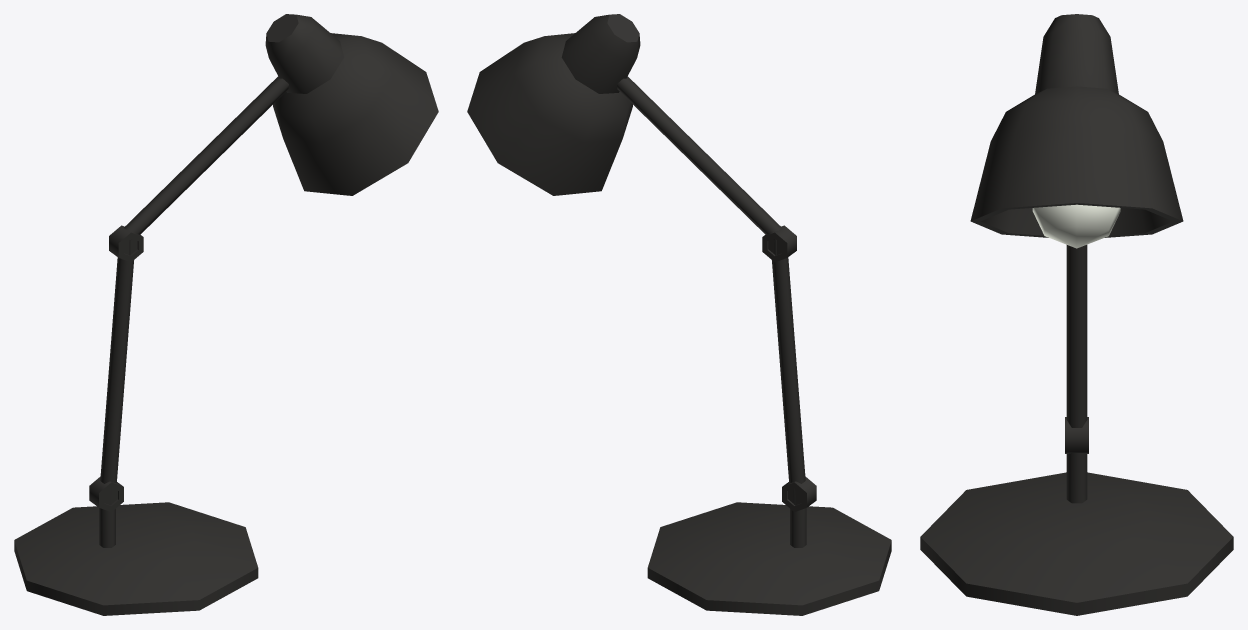
The model's file is 08_prop_desk lamp.FBX.
3 renders of one model, left to right at view 1: azimuth 30°, elevation 25°; view 2: azimuth 150°, elevation 25°; view 3: azimuth 270°, elevation 25°, orthographic. The views are drawn at different scales.
Parts seen in each view (by area): view 1: prop_desk lamp; view 2: prop_desk lamp; view 3: prop_desk lamp.
Boxes of the visible parts, <box> form: prop_desk lamp: <box>14,14,438,615</box>; prop_desk lamp: <box>467,14,891,615</box>; prop_desk lamp: <box>920,14,1233,615</box>.
Bounding box in the file's own units: 33.4 × 40.81 × 18.3.
